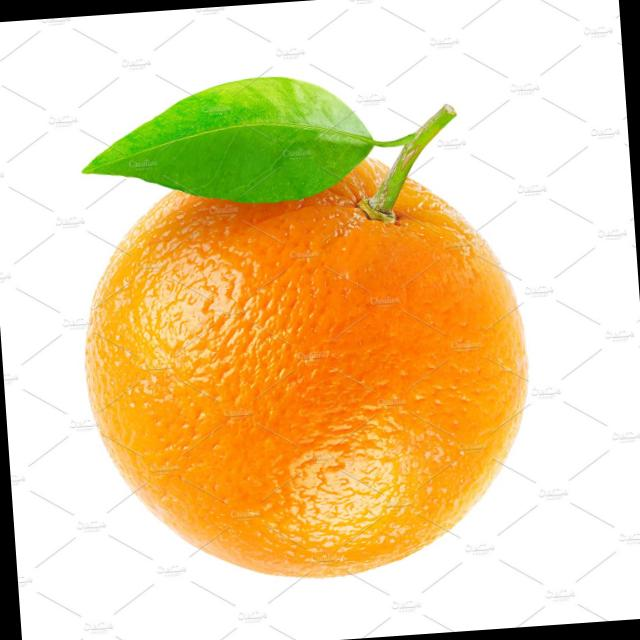orange: (58, 153, 540, 598)
